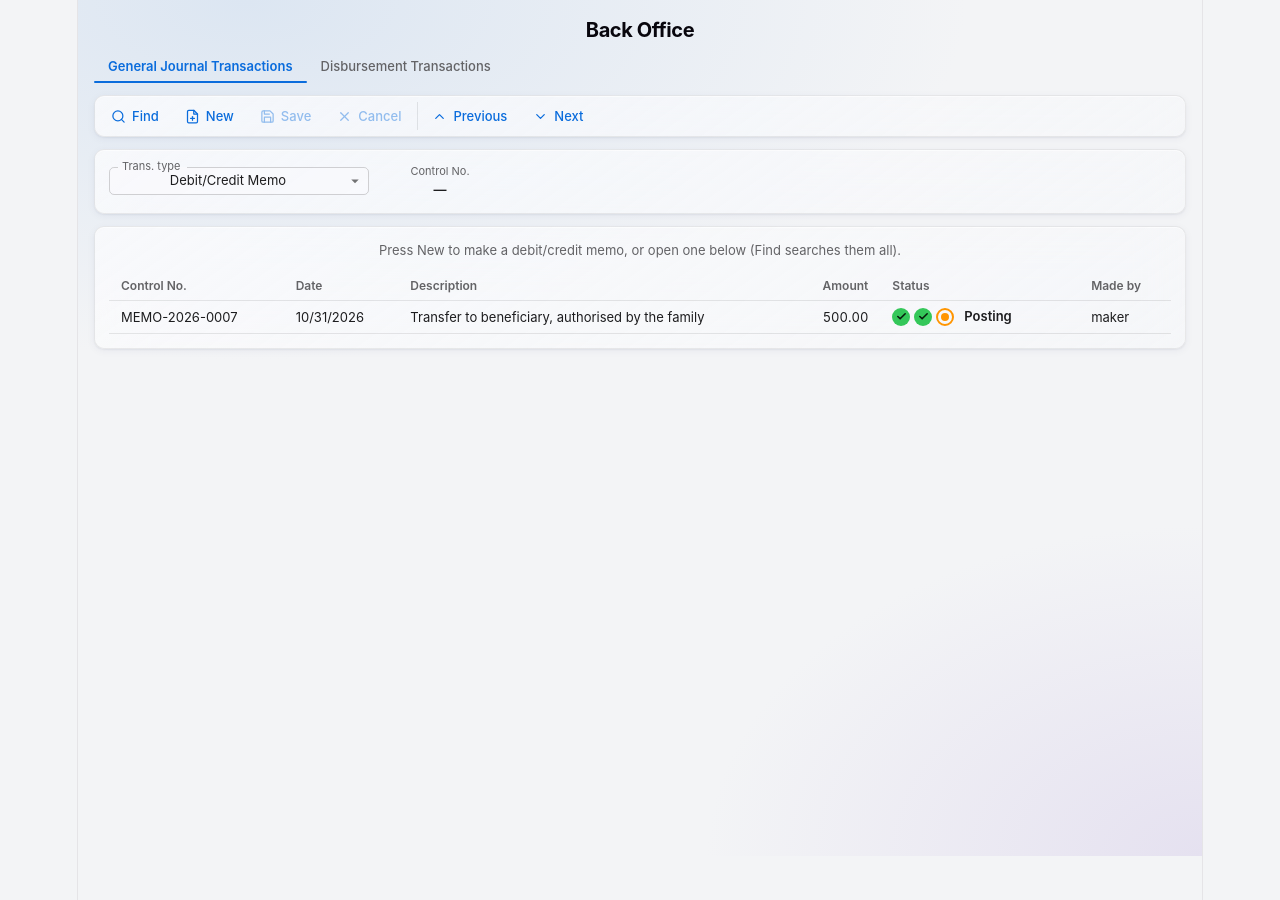
Test: Back Office › needs a third person to post a memo: neither the maker nor the approver can
Click the text "MEMO-2026-0007".
click(196, 317)  # box [109, 301, 284, 333]
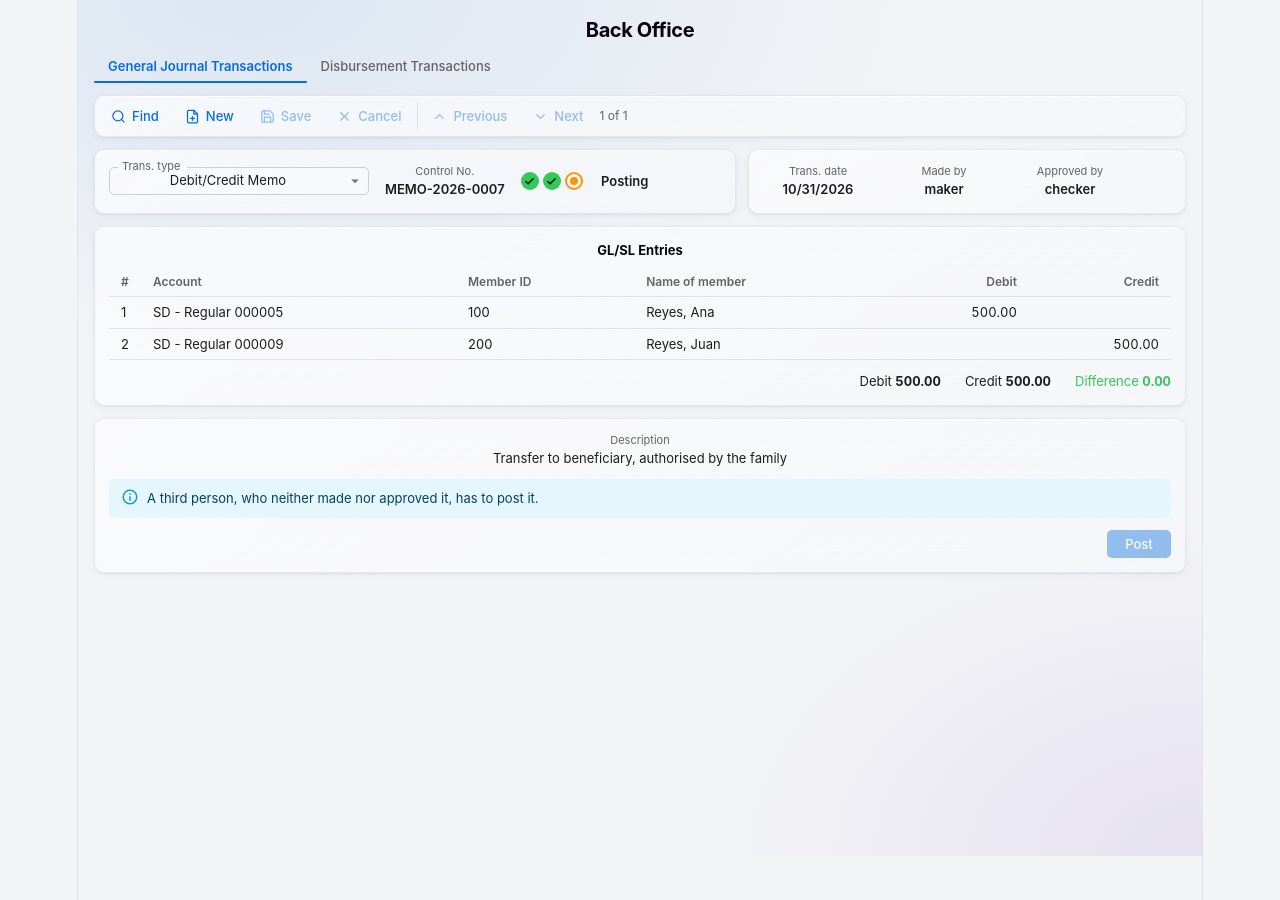
Expected: the button "Post" is disabled, [1107, 530, 1171, 558]
Expected: the text "third person" is shown, [147, 490, 539, 506]
